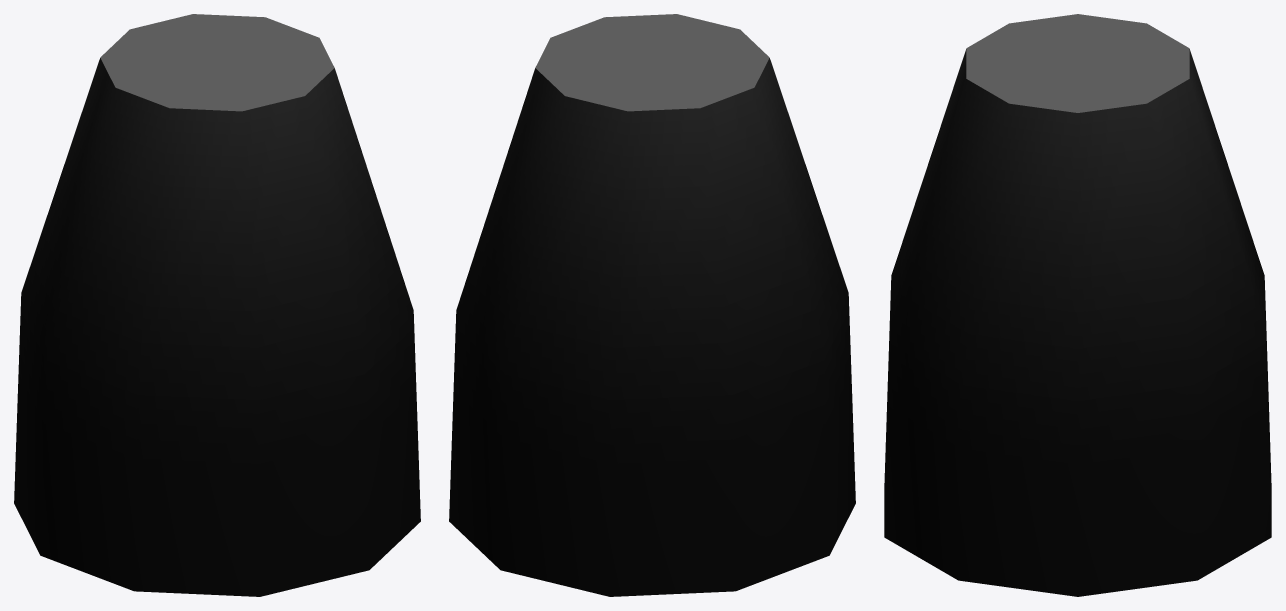
The model's file is Poison_A_Liquid.fbx.
3 views of the same model, side by side, from view 1: azimuth 30°, elevation 25°; view 2: azimuth 150°, elevation 25°; view 3: azimuth 270°, elevation 25° (orthographic).
Visible parts, largest first — view 1: Poison_A_Liquid; view 2: Poison_A_Liquid; view 3: Poison_A_Liquid.
Boxes of the visible parts, <box> form: Poison_A_Liquid: <box>14,14,420,596</box>; Poison_A_Liquid: <box>449,14,855,596</box>; Poison_A_Liquid: <box>884,14,1271,596</box>.
Bounding box in the file's own units: 22.57 × 27.38 × 21.47.
